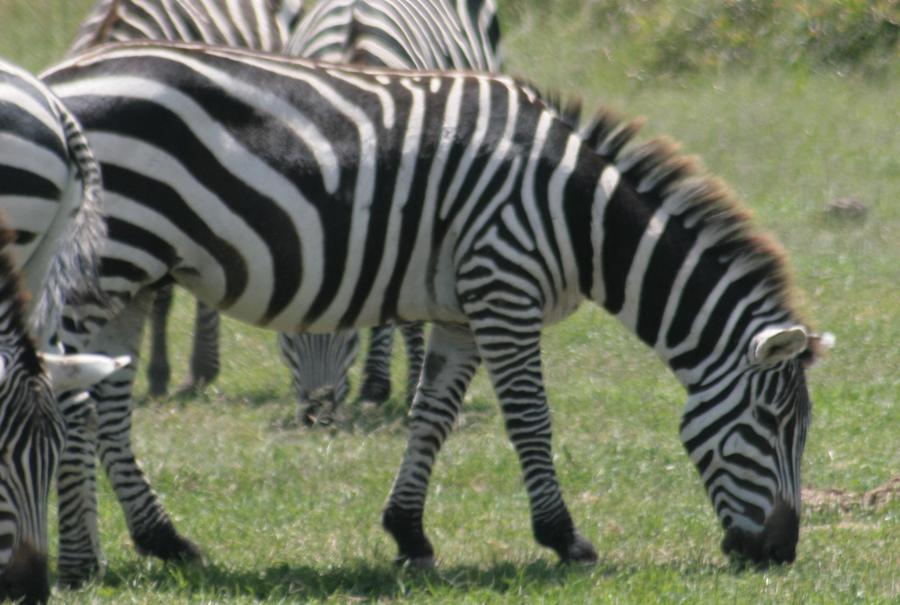zebra_plains: (44, 41, 555, 331)
